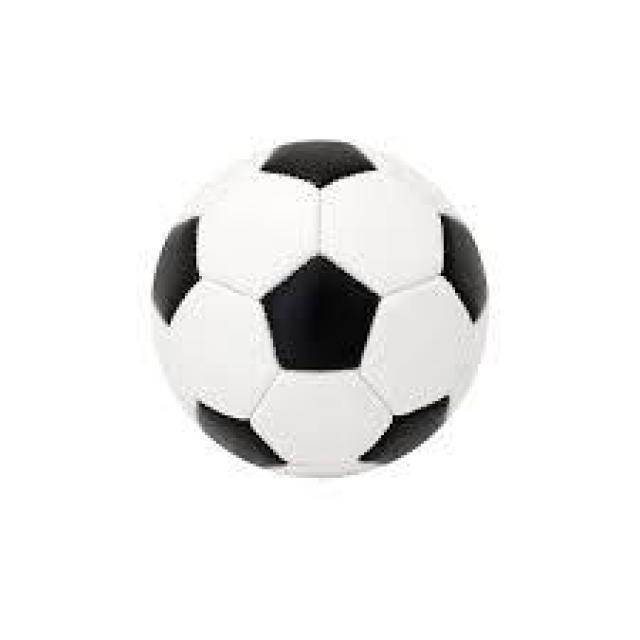Soccer Ball: (142, 125, 492, 492)
